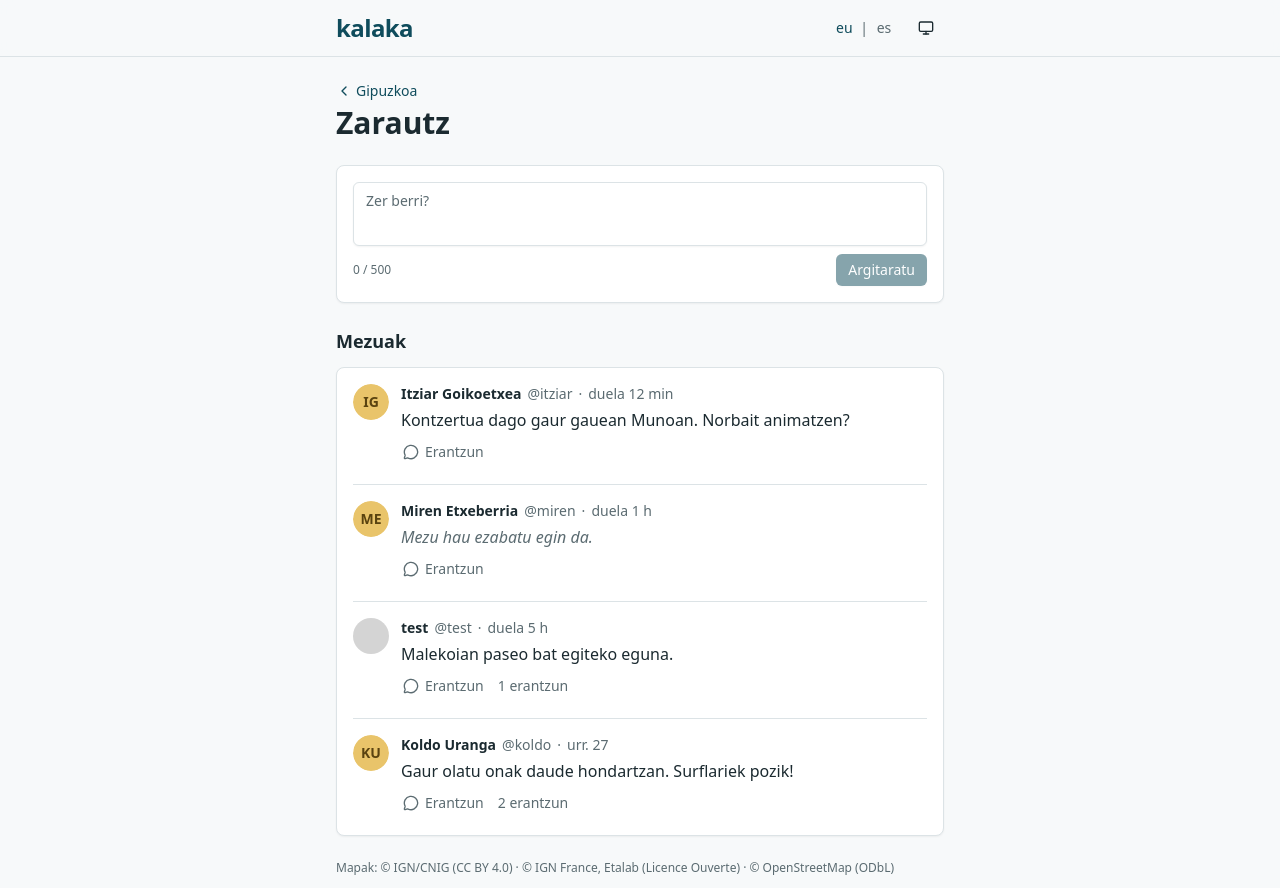
Test: room › shows a translated error when publishing fails
This screenshot has width=1280, height=888.
Type "Kaixo" into the text box named "Idatzi mezu bat" at (640, 214), box [353, 182, 927, 246]
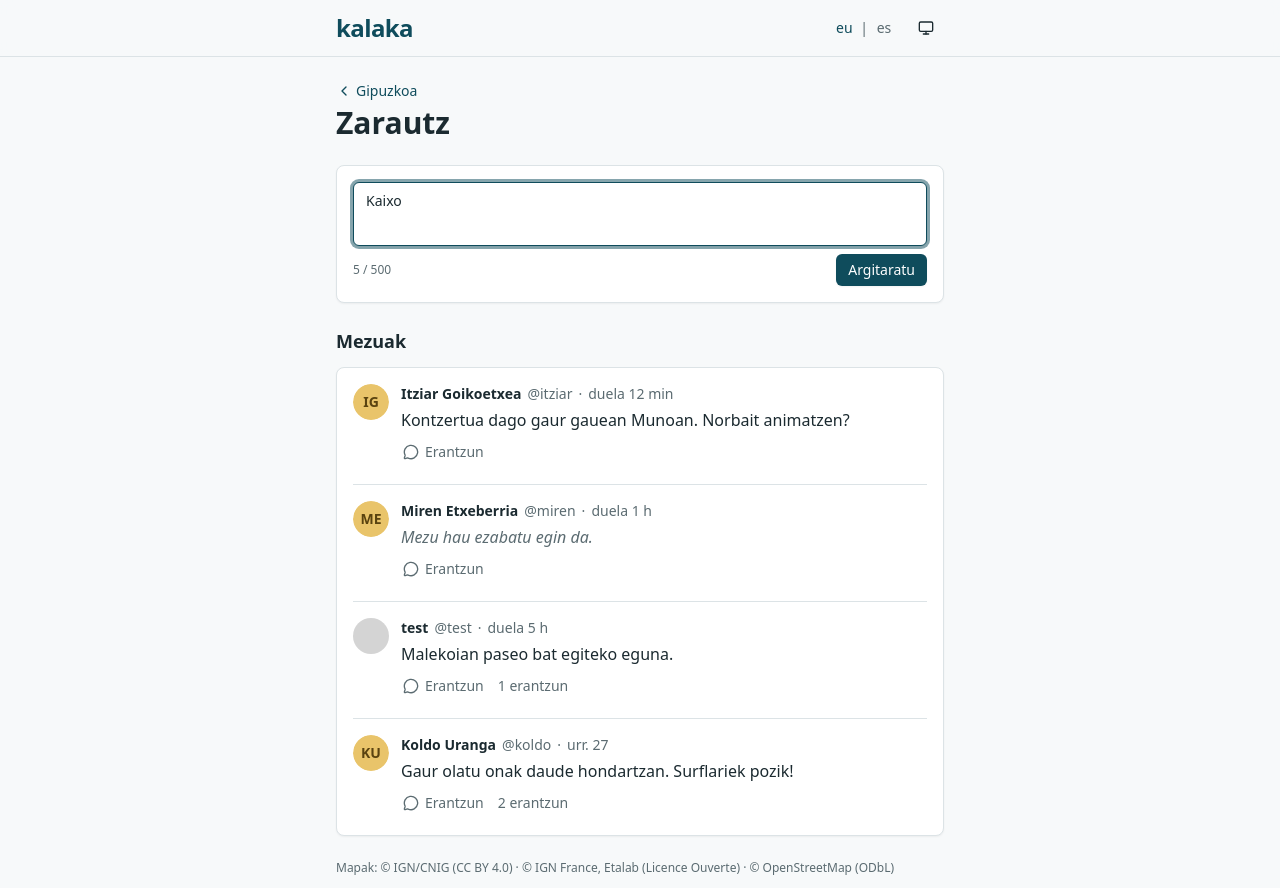
Click the button "Argitaratu" at (882, 270), box [836, 254, 927, 286]
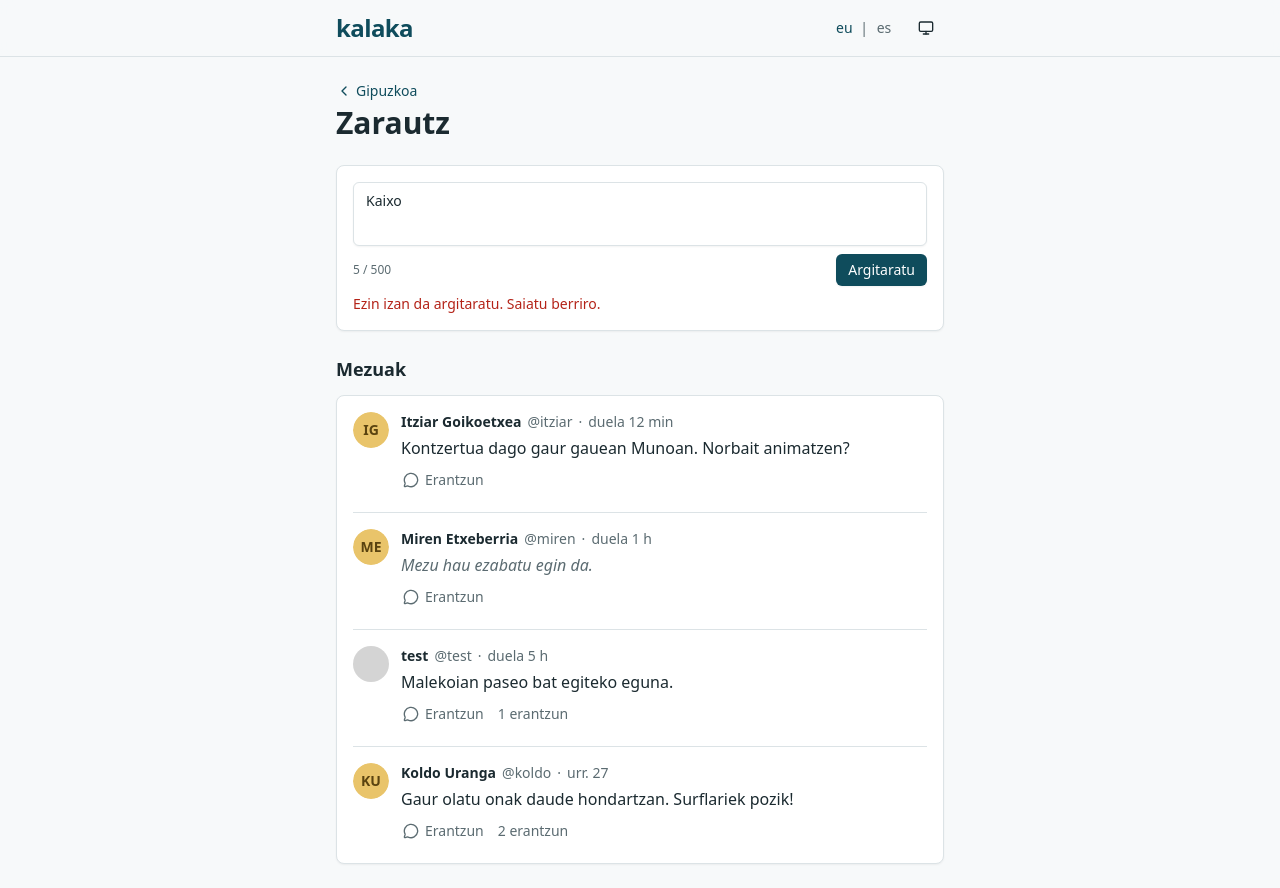
Result: the text "Ezin izan da argitaratu. Saiatu berriro." is shown at [353, 294, 601, 313]
